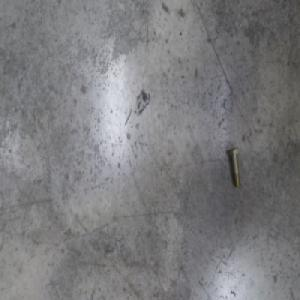Bolt: (228, 145, 241, 187)
